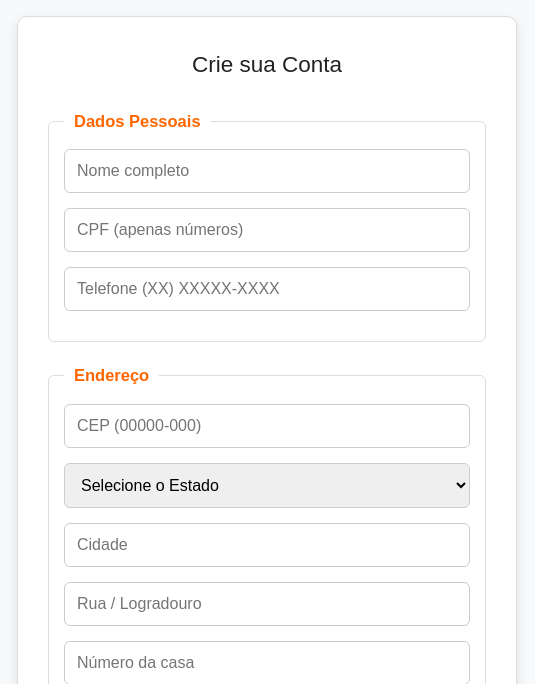
Scenario: Cadastro.vue › masks CPF, CEP, and Telefone inputs correctly
Type "12345678900" into the field with placeholder "CPF (apenas números)" at (267,230), box [64,208,470,252]
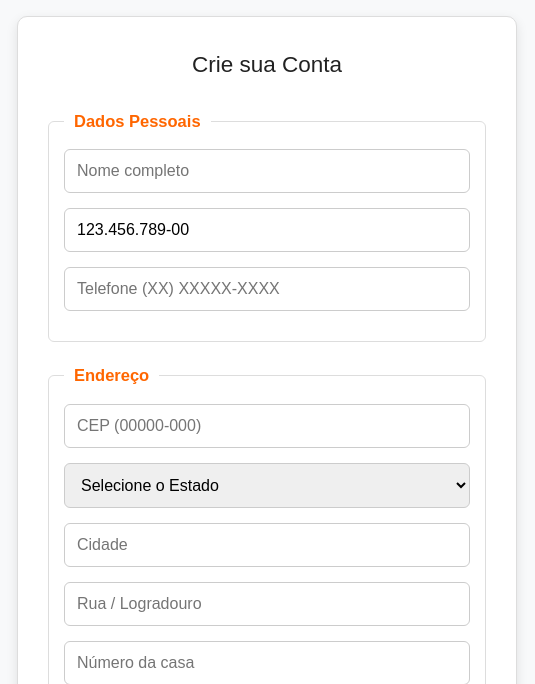
Now the 2nd field holds "123.456.789-00", box [64,208,470,252]
Type "12345678" into the field with placeholder "CEP (00000-000)" at (267,426), box [64,404,470,448]
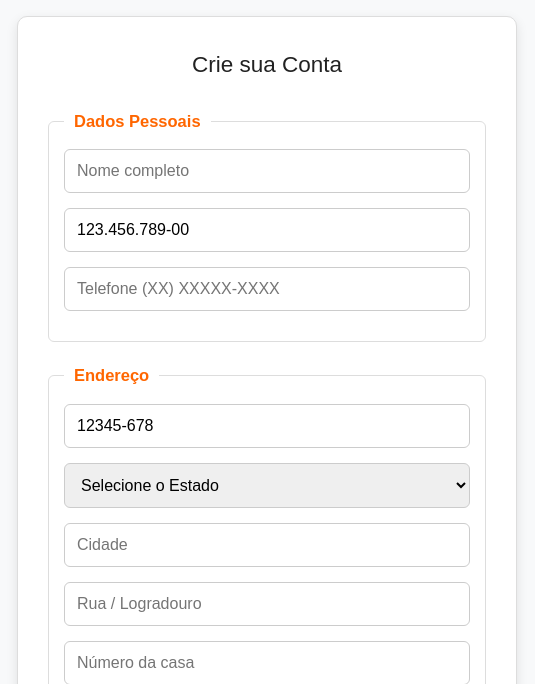
Now the field below "Endereço" holds "12345-678", box [64,404,470,448]
Type "11987654321" into the field with placeholder "Telefone (XX) XXXXX-XXXX" at (267,289), box [64,267,470,311]
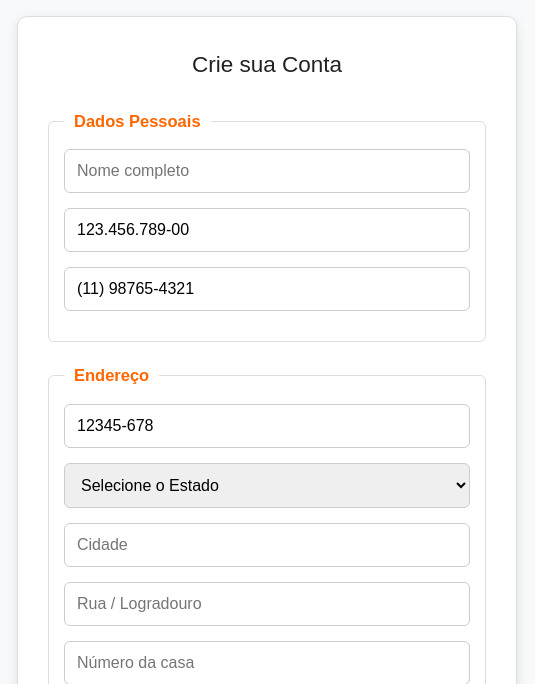
Now the 3rd field holds "(11) 98765-4321", box [64,267,470,311]
